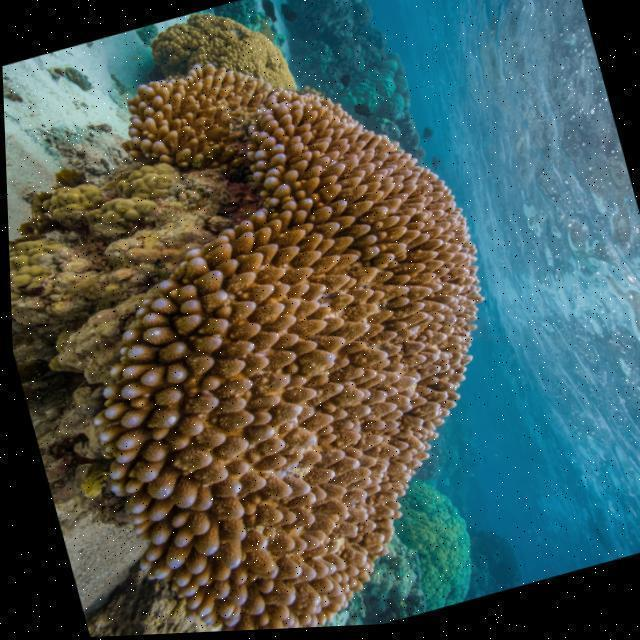Healthy Coral: (0, 0, 565, 640), (337, 473, 489, 625)
